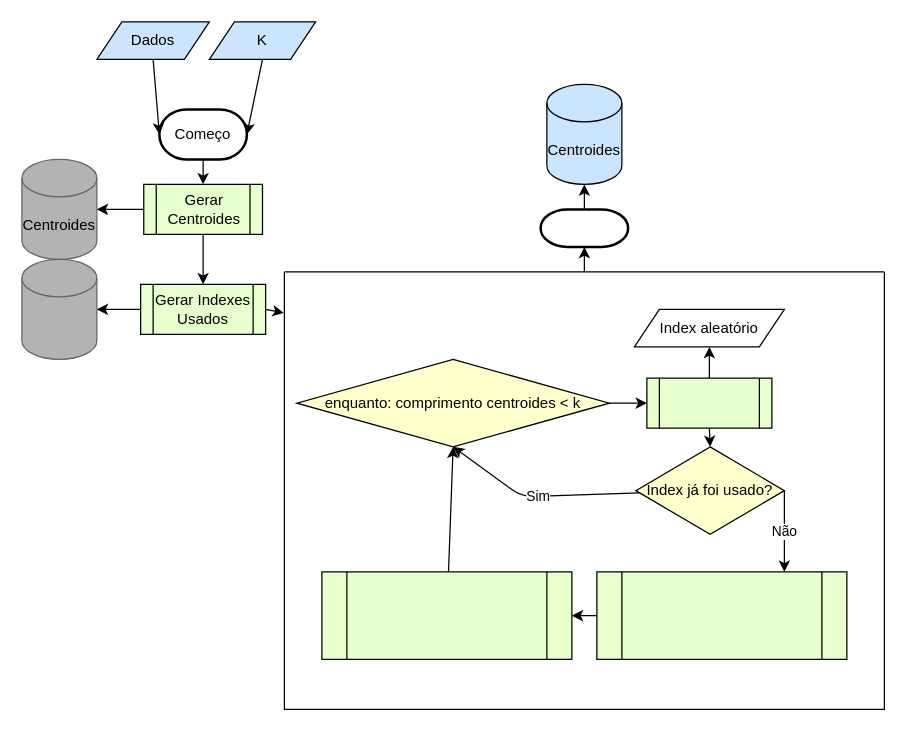
Some shapes in this 906 by 731 pixel diagram are drawn without their labels. The shapes that lost their labels are listed below. From the top down, each one's box as (x1, y1, x2, y2) in pixels, then its label:
(539, 208, 629, 248): Fim
(21, 258, 97, 359): Indexes Usados
(646, 377, 772, 428): Criar Index aleatório
(321, 571, 572, 659): Adicionar dado naquele índice à centroides
(596, 571, 847, 659): Adicionar index a indexes usados e a o dado naquele índice à centroides
